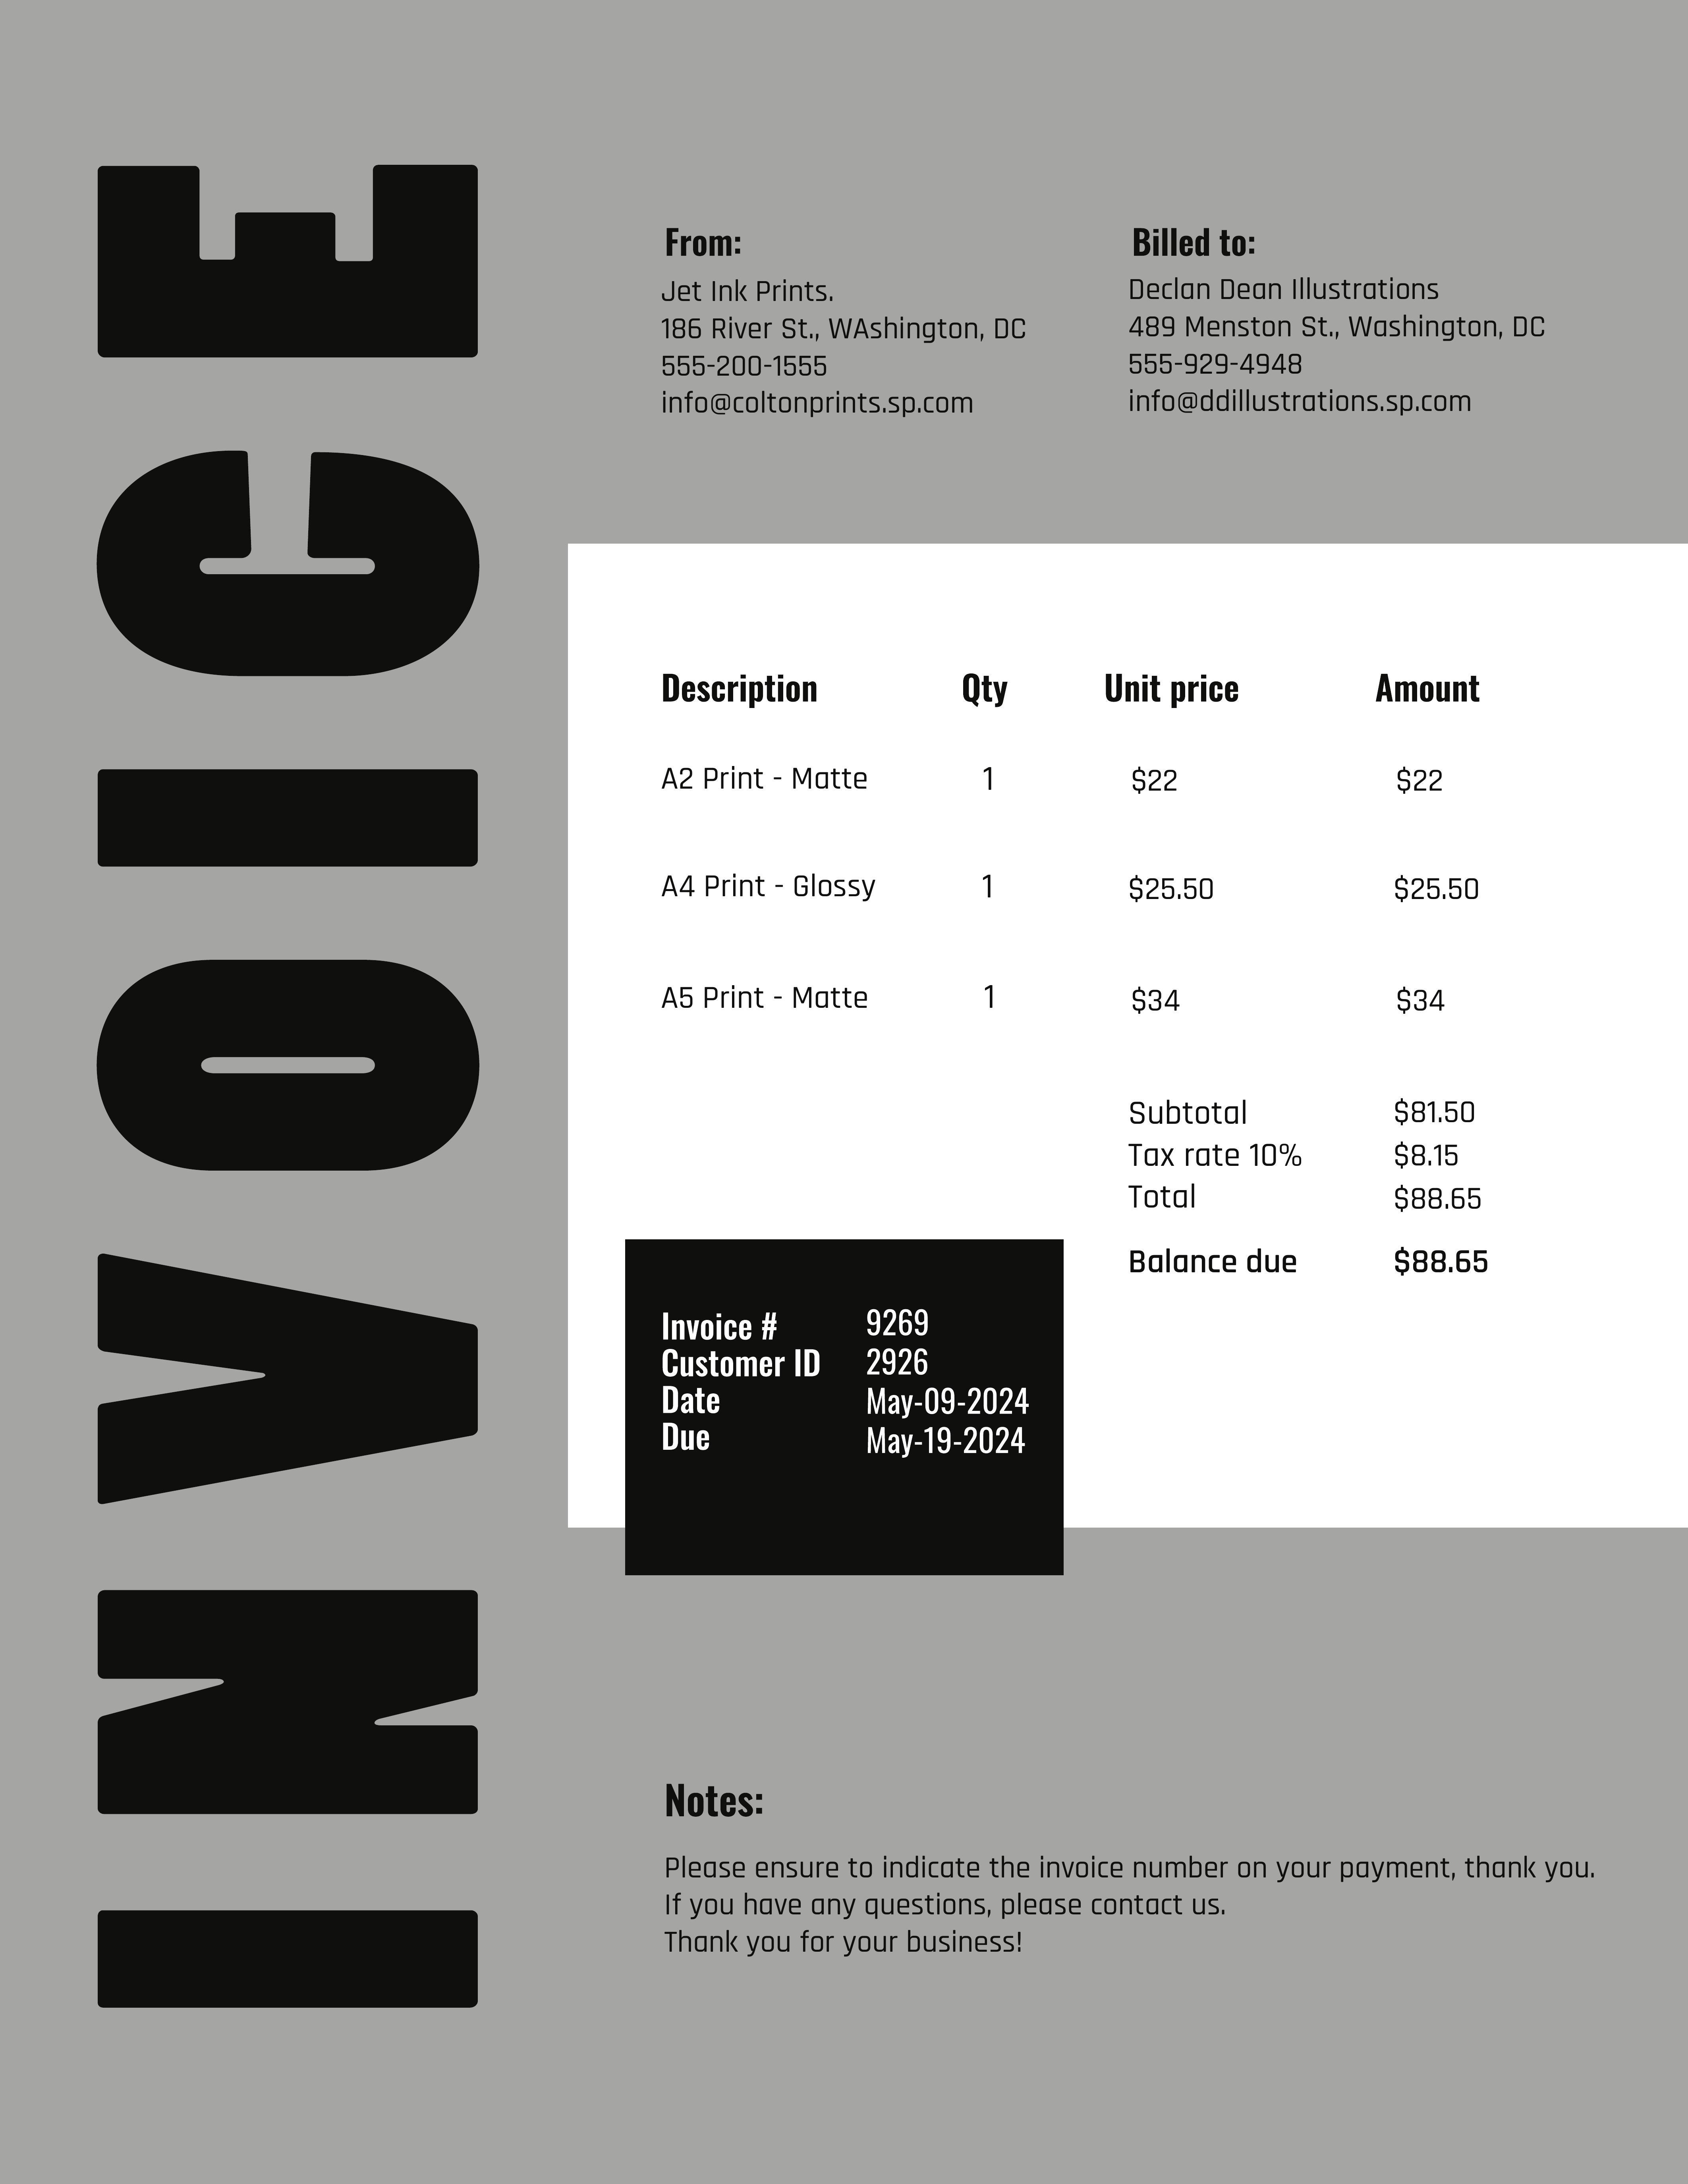ROI: (656, 665, 1507, 1025), (647, 222, 1055, 434), (1122, 218, 1555, 418), (656, 1844, 1619, 1927), (1119, 1096, 1507, 1282), (654, 1305, 1041, 1470)
